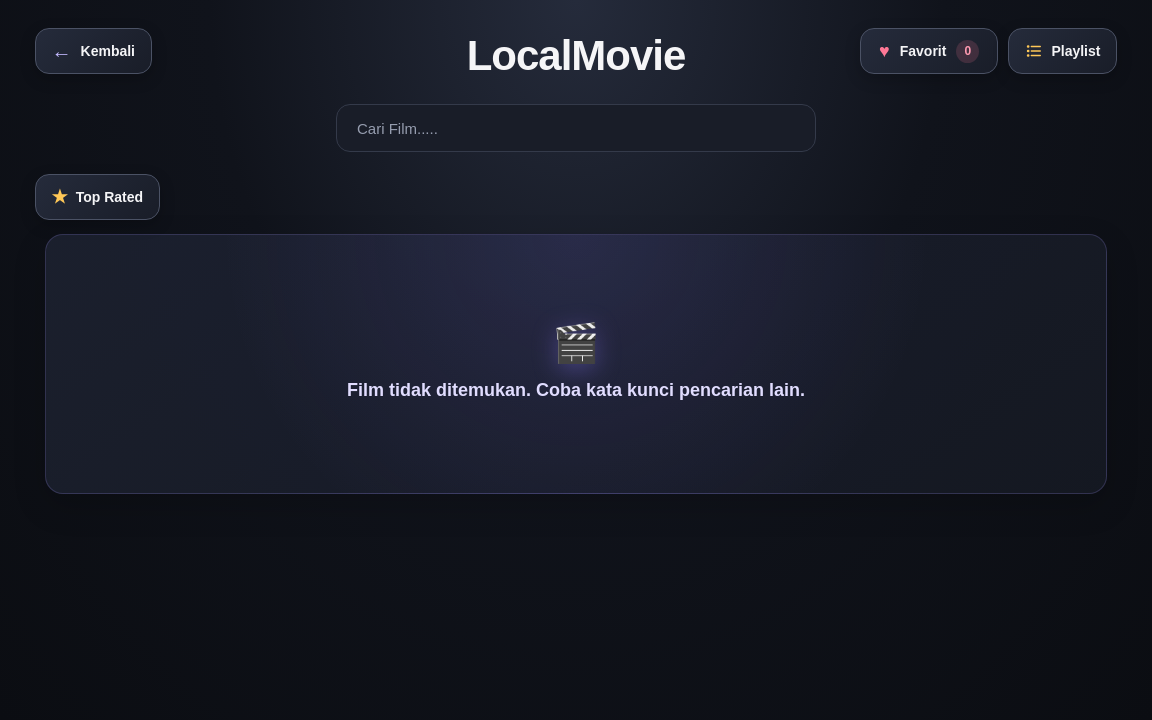
it: opens the playlist section and creates a playlist
The width and height of the screenshot is (1152, 720).
Click the button "Playlist": (1063, 51) [1008, 28, 1117, 74]
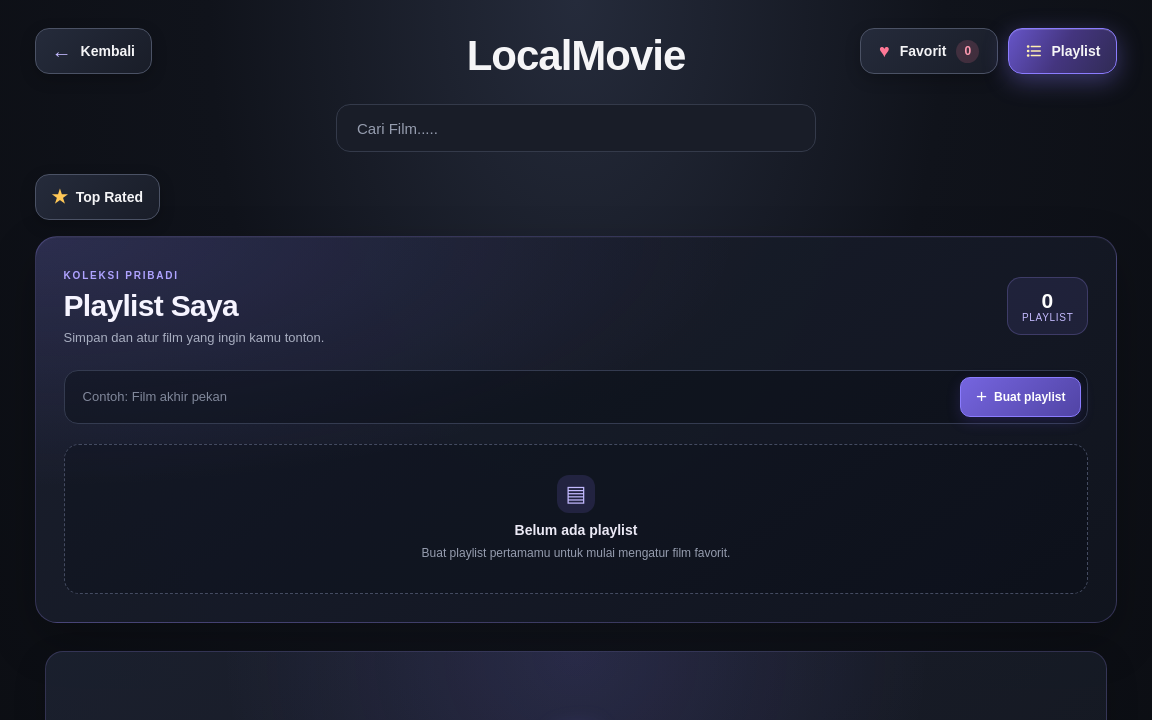
expect the heading "Playlist Saya" is shown: met, box [64, 289, 238, 322]
expect the text "Belum ada playlist" is shown: met, box [514, 522, 637, 538]
In the field named "Nama playlist baru": (511, 396) [70, 376, 952, 416], type "Film akhir pekan"
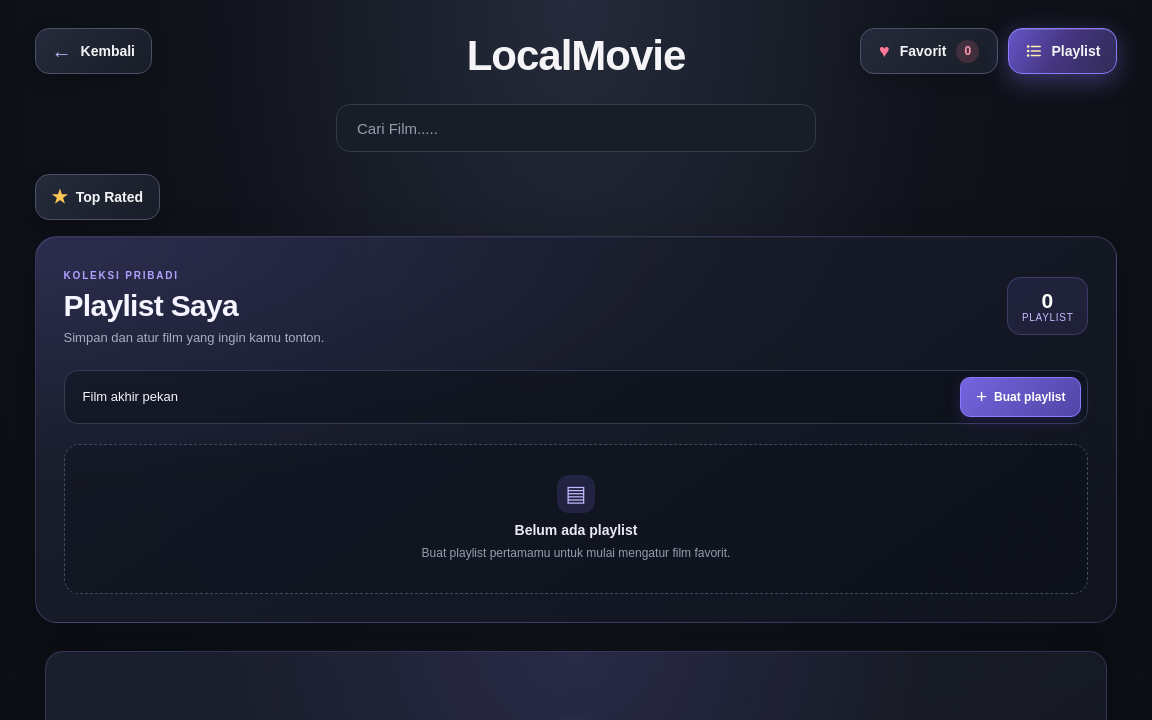
Click the button "+ Buat playlist": (1021, 396) [960, 376, 1082, 416]
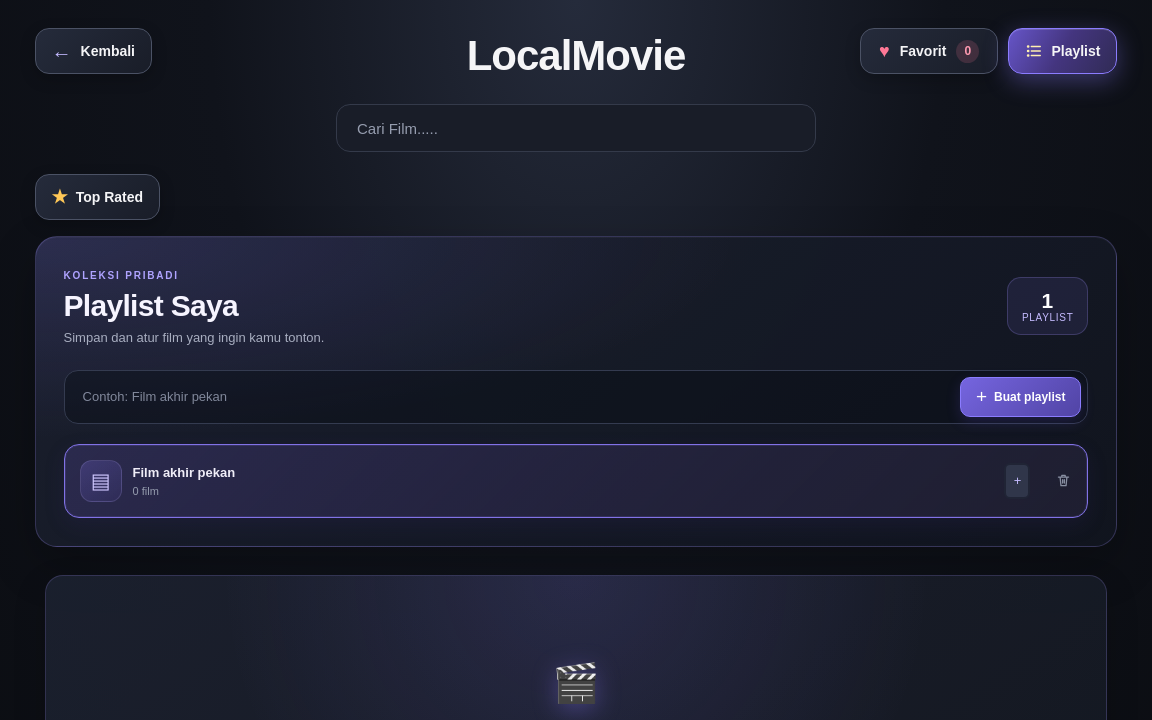
expect the button "▤ Film akhir pekan 0 film +" is shown: met, box [72, 452, 1038, 510]
